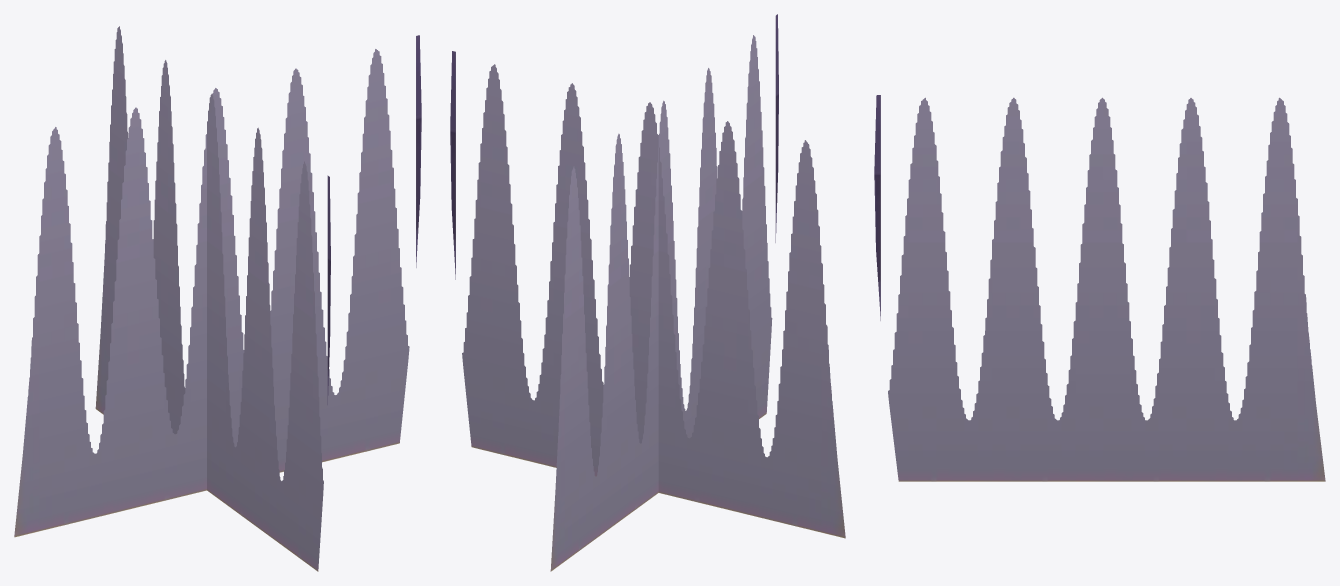
File: grass_tuft_b.glb
The picture shows the model from 3 angles, left to right: view 1: azimuth 30°, elevation 25°; view 2: azimuth 150°, elevation 25°; view 3: azimuth 270°, elevation 25°; orthographic projection. The views are drawn at different scales.
Parts seen in each view (by area): view 1: lod0; view 2: lod0; view 3: lod0.
Boxes of the visible parts, box(x1,y1,x2,y2) form: lod0: box(14, 26, 421, 571); lod0: box(450, 14, 845, 571); lod0: box(874, 95, 1325, 481).
Bounding box in the file's own units: 0.74 × 0.7 × 0.74.
1 material, 1 textured.
